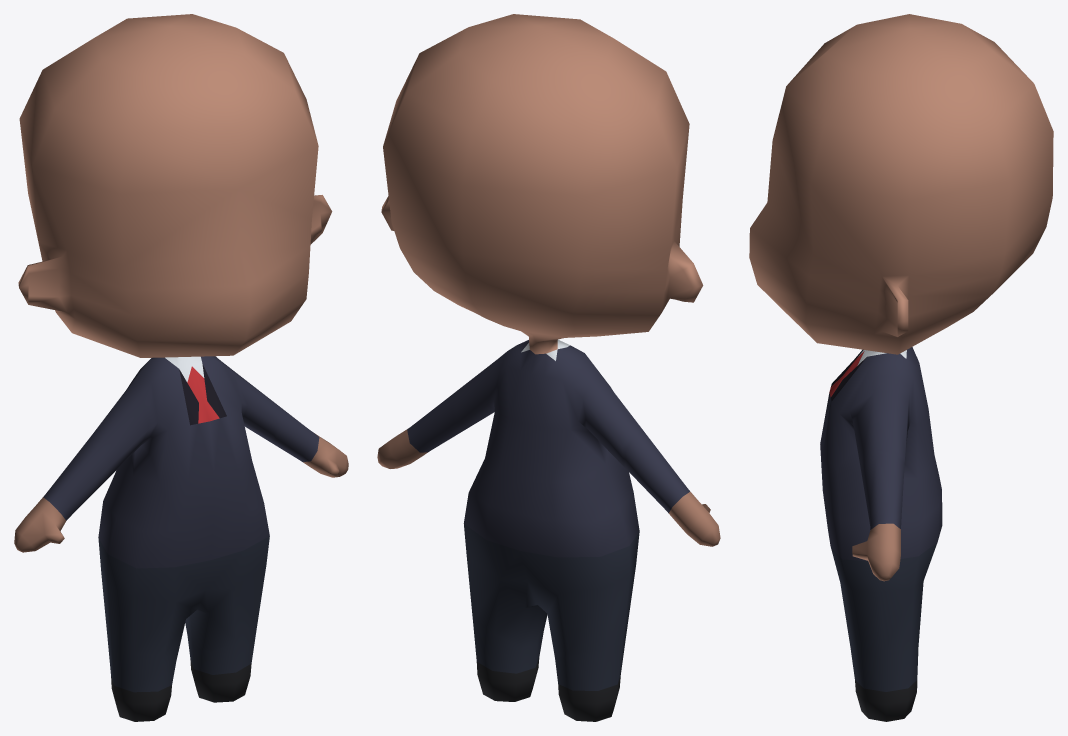
File: characterPrototype.fbx
The picture shows the model from 3 angles, left to right: view 1: azimuth 30°, elevation 25°; view 2: azimuth 150°, elevation 25°; view 3: azimuth 270°, elevation 25°; orthographic projection. The views are drawn at different scales.
Parts seen in each view (by area): view 1: banVilleProto; view 2: banVilleProto; view 3: banVilleProto.
Boxes of the visible parts, bbox=[...] form: banVilleProto: bbox=[14, 14, 348, 721]; banVilleProto: bbox=[377, 14, 720, 721]; banVilleProto: bbox=[749, 14, 1053, 721].
Size of the model in its own units: 94.23 by 183 by 75.25.
